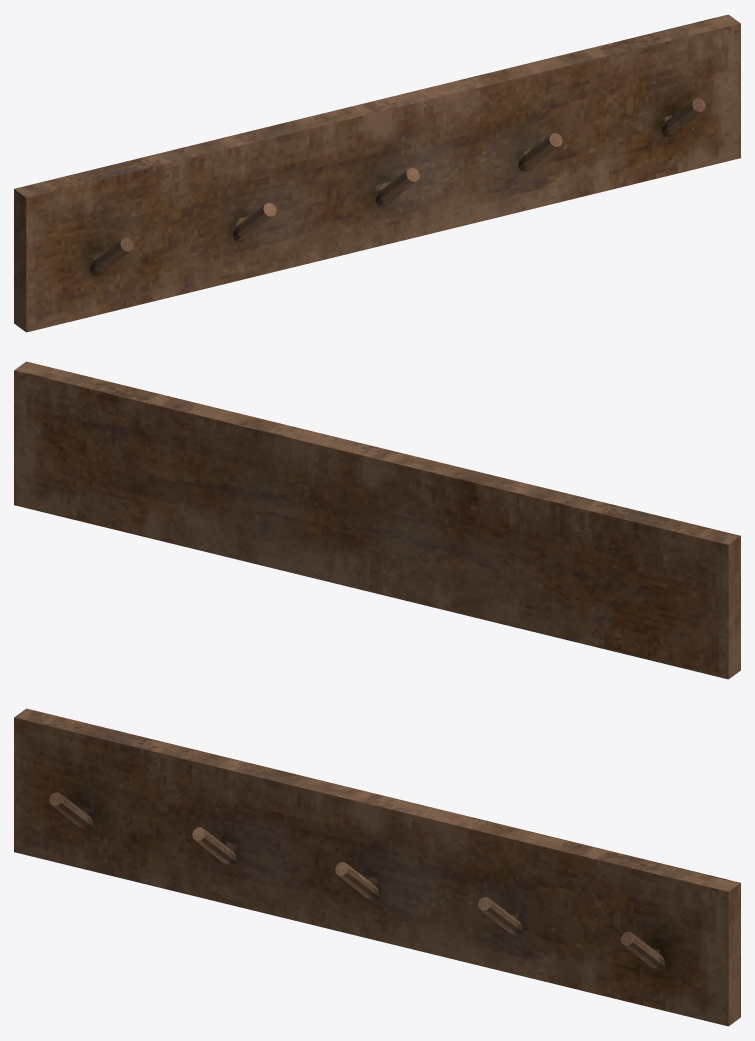
The model's file is ClothHanger.fbx.
3 renders of one model, top to bottom at view 1: azimuth 30°, elevation 25°; view 2: azimuth 150°, elevation 25°; view 3: azimuth 330°, elevation 25°, orthographic.
Visible parts, largest first — view 1: ClothHanger; view 2: ClothHanger; view 3: ClothHanger.
Boxes of the visible parts, x1,y1,x2,y2 form: ClothHanger: (14,14,740,332); ClothHanger: (14,361,740,679); ClothHanger: (14,708,740,1026).
Size of the model in its own units: 7.05 by 65.82 by 11.85.
